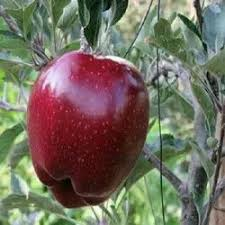apple: (27, 51, 152, 208)
